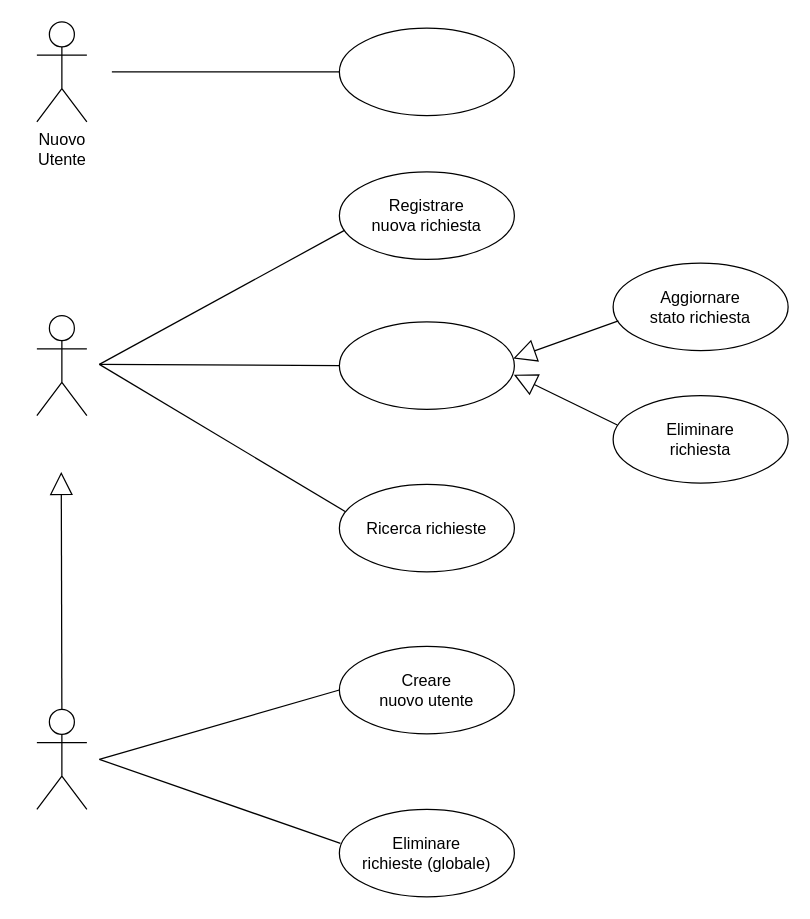
Image size: 810x919. Some labels were removed from this diagram. The shapes that lost their labels are listed below. From the top down, each one's centre as x and y in pixels, then its label:
At pixel 426 71: "Autenticazione".
At pixel 61 365: "Utente Autenticato".
At pixel 426 365: "Gestire richieste (proprie)".
At pixel 61 758: "Admin".
